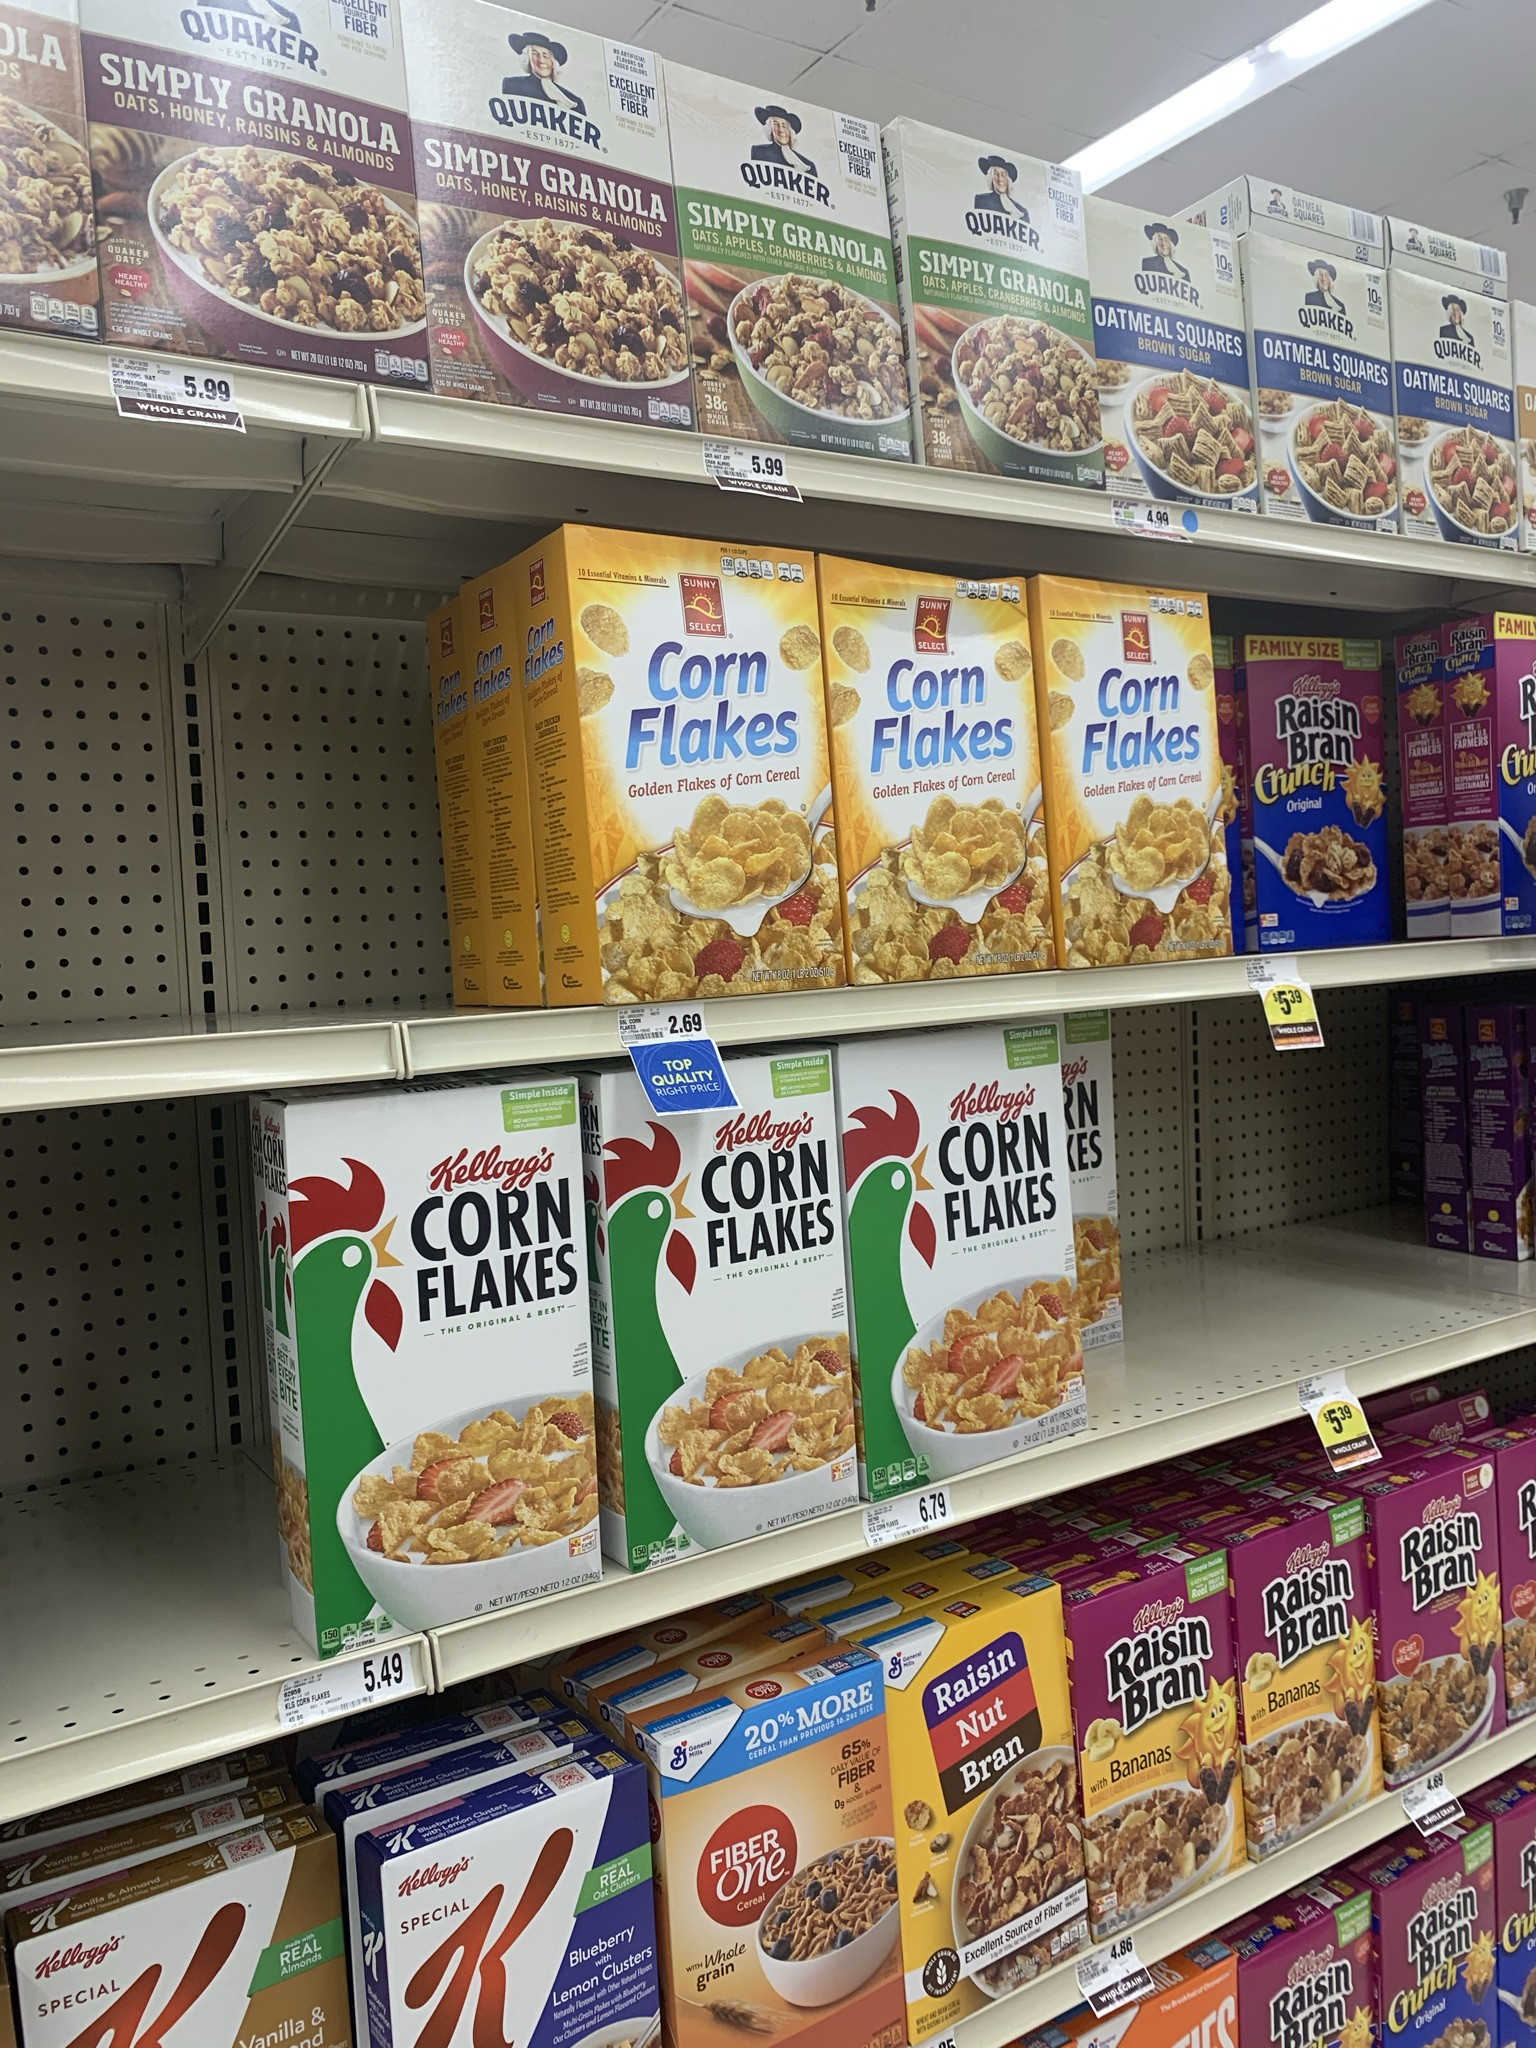Cereal: (1060, 1571, 1254, 1925)
